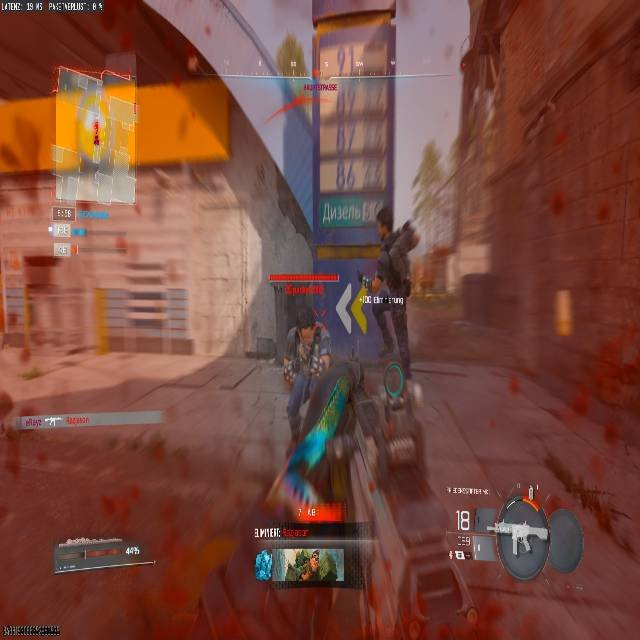head: (376, 208, 393, 237), (296, 305, 316, 327)
player: (282, 302, 331, 483), (368, 222, 420, 367)
